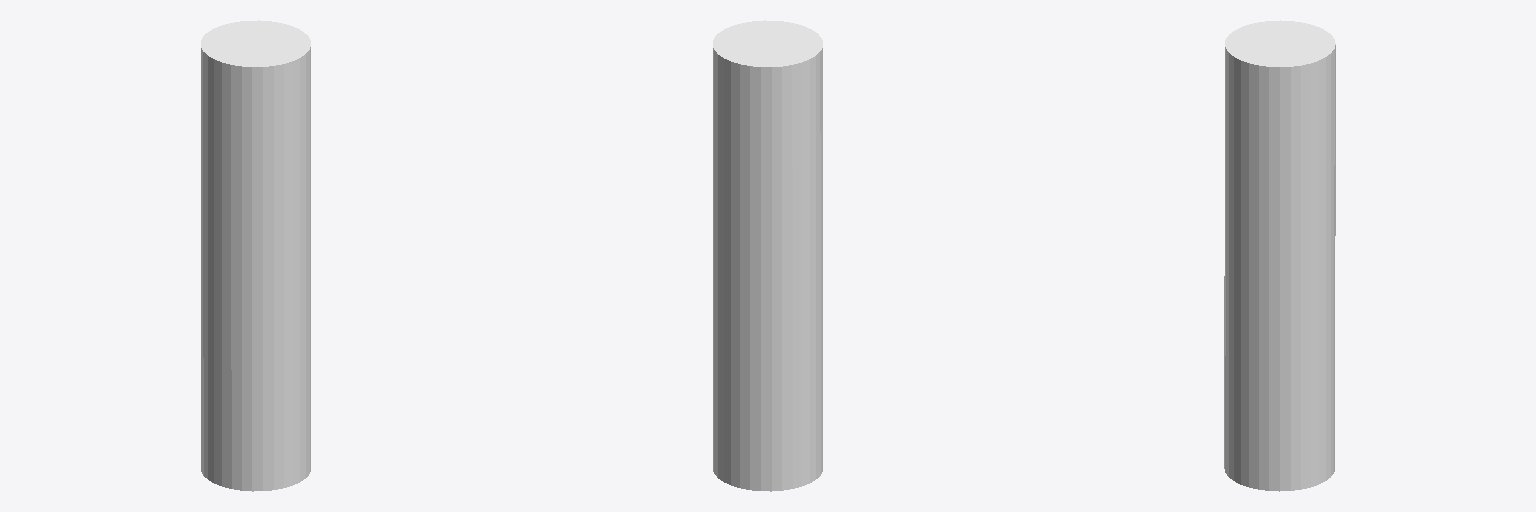
robot.urdf — board:
<?xml version="0.0" ?>
<robot name="board">
    <material name="white">
        <color rgba="1 1 1 1"/>
    </material>

    <link name="baseLink">
        <!-- from lego/lego.urdf -->
        <inertial>
            <origin rpy="0 0 0" xyz="0 0 0"/>
            <mass value="10.0"/>
            <inertia ixx="1" ixy="0" ixz="0" iyy="1" iyz="0" izz="1"/>
        </inertial>
        <visual>
            <origin rpy="1.57 0 0" xyz="0 0 0"/>
            <geometry>
                <!--        radius: 10mm, depth: 14.5mm-->
                <mesh filename="meshes/lower_peg.obj" scale="0.75 0.75 0.75"/>
                <!--        <box size="0.002 0.002 0.002"/>-->
            </geometry>
            <material name="white"/>
        </visual>
        <collision>
            <origin rpy="1.57 0 0" xyz="0 0 0"/>
            <geometry>
                <mesh filename="meshes/lower_peg_collision.obj" scale="0.75 0.75 0.75"/>
                       <!-- <box size="2 2 2"/> -->
            </geometry>
        </collision>
    </link>
</robot>

--- Render facts (derived) ---
Views: 3 orthographic renders of the robot side by side, from view 1: azimuth 30°, elevation 25°; view 2: azimuth 150°, elevation 25°; view 3: azimuth 270°, elevation 25°.
Model board with 1 links and 0 joints (none), rooted at baseLink, posed all joints at 0.
Visible links, largest first — view 1: baseLink; view 2: baseLink; view 3: baseLink.
Boxes of the visible links, x1,y1,x2,y2 form: baseLink: [201, 20, 310, 491]; baseLink: [713, 20, 822, 491]; baseLink: [1224, 20, 1335, 491].
Bounding box of the posed robot: 0.1401 × 0.1406 × 0.5911 m (x, y, z).
1 mesh visuals loaded from 1 distinct referenced files (1 OBJ).